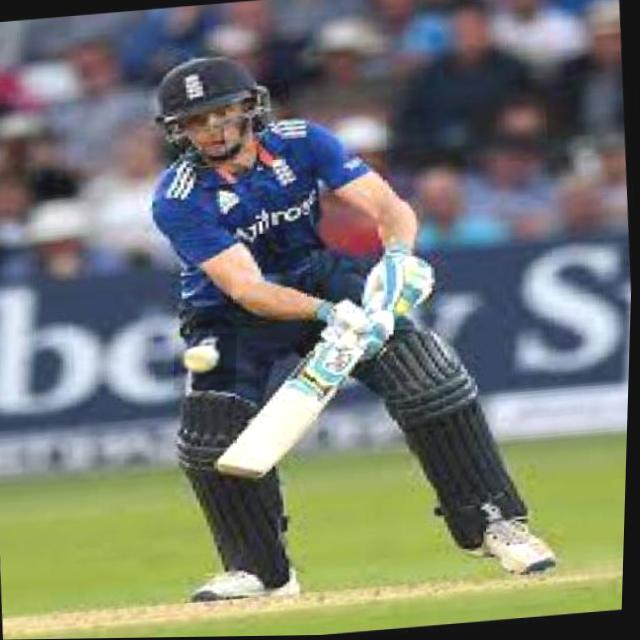-: (176, 334, 239, 391)
